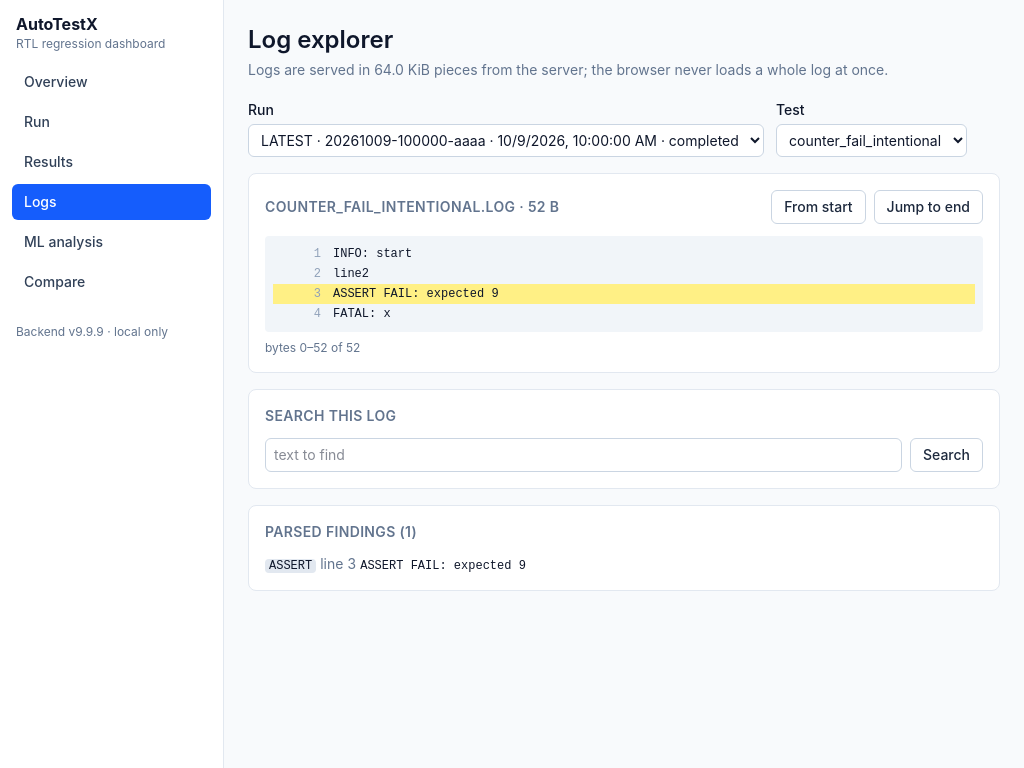
Log explorer › loads a chunk, highlights the requested line, shows findings and searches
The image size is (1024, 768).
expect the element named "Log content of counter_fail_intentional" shows "ASSERT FAIL: expected 9": met, box x1=333 y1=287 x2=499 y2=301
expect the heading "Parsed findings (1)" is shown: met, box x1=265 y1=522 x2=417 y2=542
Type "fatal" into the search field named "Search log text" at coordinates (584, 455), box x1=265 y1=438 x2=902 y2=472
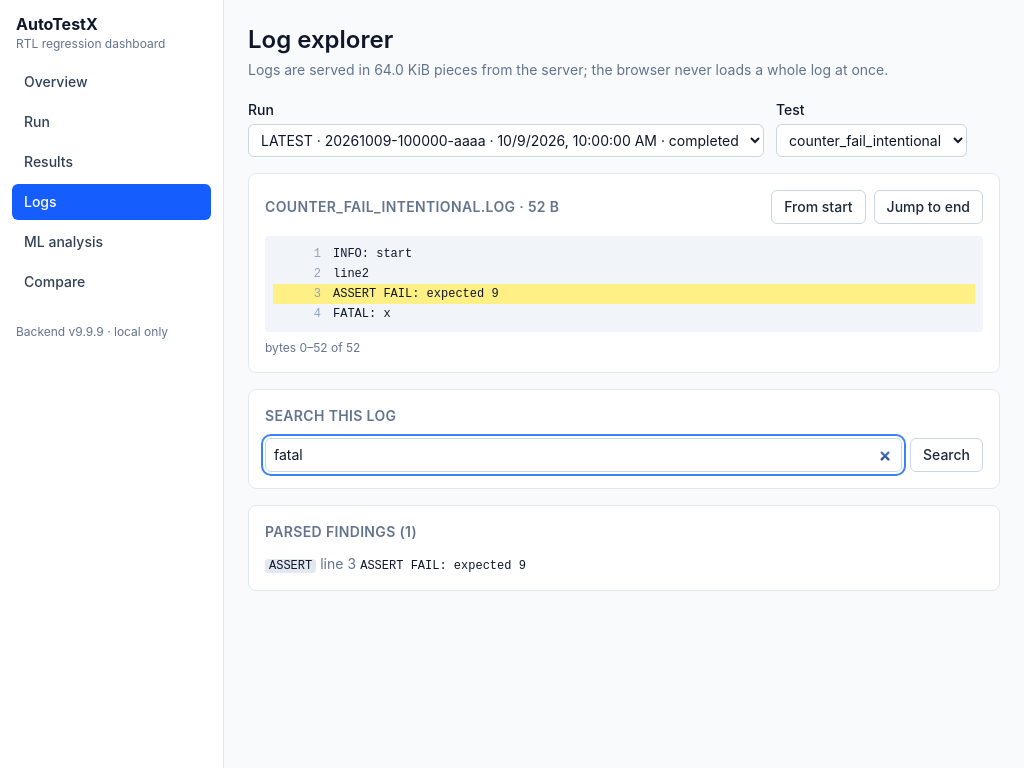
Click the button "Search" at coordinates (946, 455), box x1=910 y1=438 x2=983 y2=472
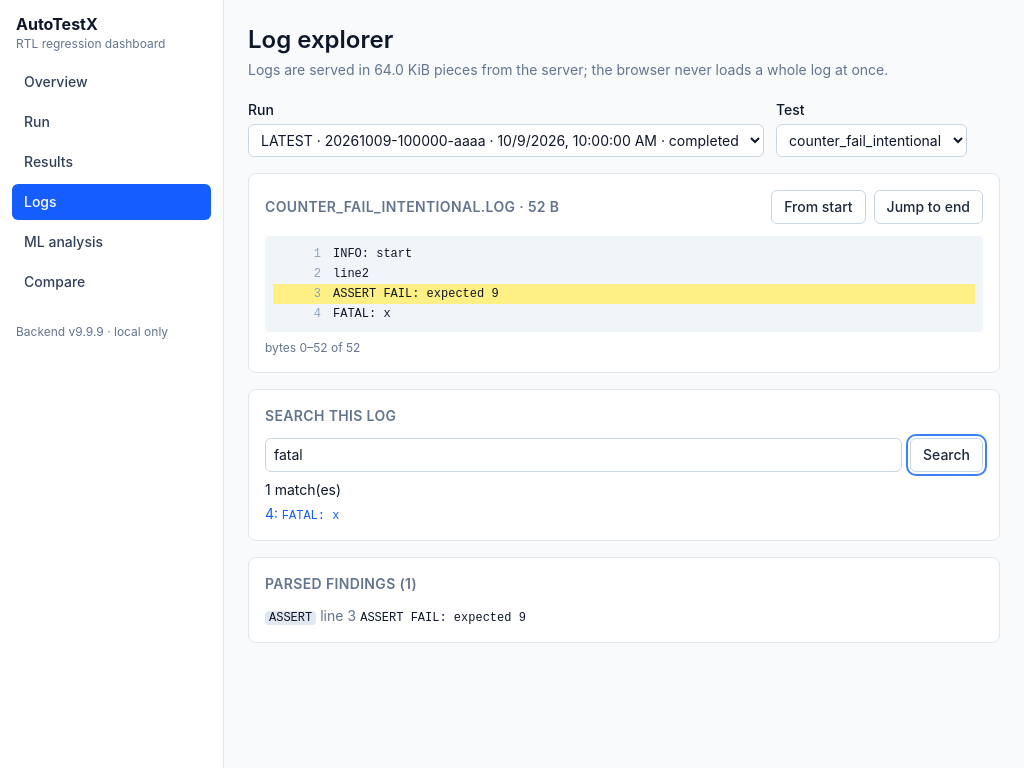
expect the text "1 match(es)" is shown: met, box x1=265 y1=481 x2=341 y2=498
